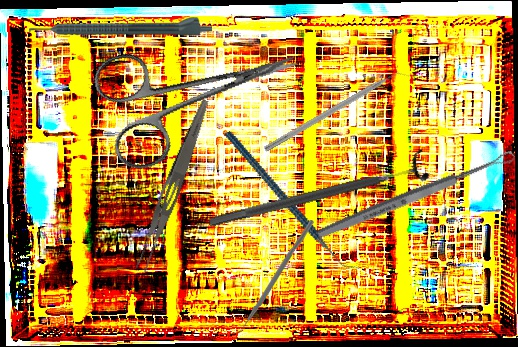Chopper: (223, 105, 361, 297), (263, 65, 413, 160), (226, 218, 315, 337)
Dressing Forceps: (131, 96, 213, 274)
Fixation Ring: (204, 147, 432, 240)
Handpiece: (29, 15, 212, 36)
Iris Scissors: (88, 8, 315, 176)
Surgical Spoon: (315, 148, 517, 242)
